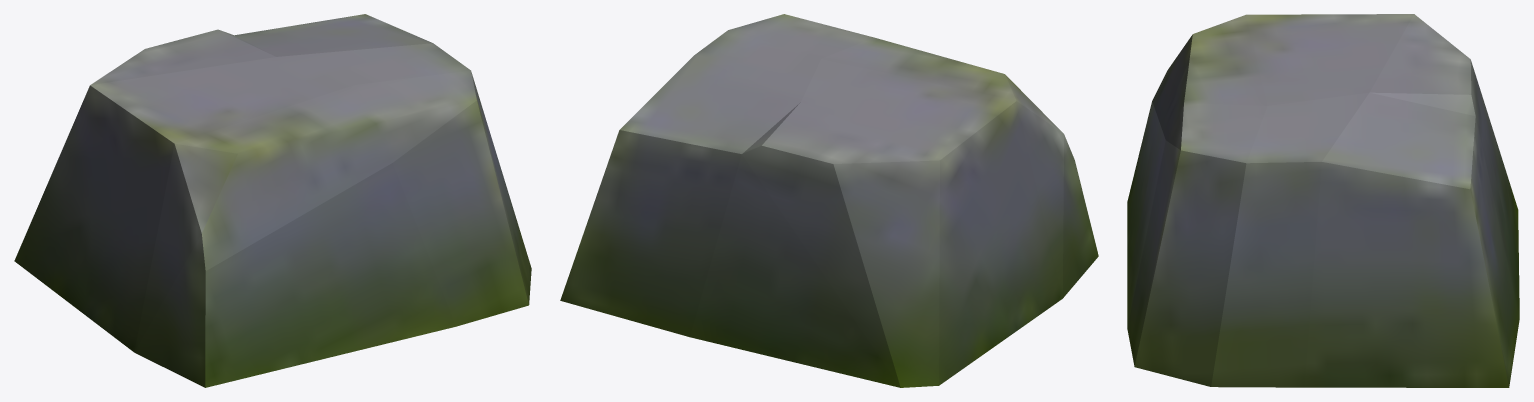
File: sn_pebble_square_4.glb
3 views of the same model, side by side, from view 1: azimuth 30°, elevation 25°; view 2: azimuth 150°, elevation 25°; view 3: azimuth 270°, elevation 25° (orthographic). The views are drawn at different scales.
Parts seen in each view (by area): view 1: Pebble_Square_4; view 2: Pebble_Square_4; view 3: Pebble_Square_4.
Boxes of the visible parts, box(x1,y1,x2,y2) form: Pebble_Square_4: box(14, 14, 531, 387); Pebble_Square_4: box(560, 14, 1098, 387); Pebble_Square_4: box(1127, 14, 1519, 387).
Bounding box in the file's own units: 0.3399 × 0.1683 × 0.2908.
Materials: 1 (1 with a texture image).
